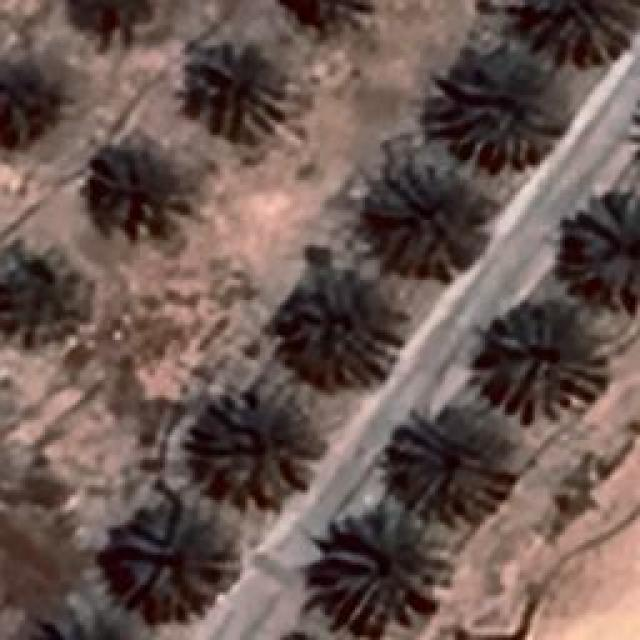PalmTree: (117, 31, 578, 93), (320, 504, 452, 638), (422, 40, 560, 165), (370, 144, 485, 278), (280, 268, 408, 388), (480, 305, 608, 420), (198, 390, 320, 502), (120, 502, 238, 616), (390, 412, 512, 520), (188, 35, 290, 140), (0, 237, 95, 345), (568, 190, 638, 302), (0, 59, 56, 144), (90, 93, 142, 184), (24, 602, 148, 640), (274, 0, 370, 35), (69, 0, 156, 38)
